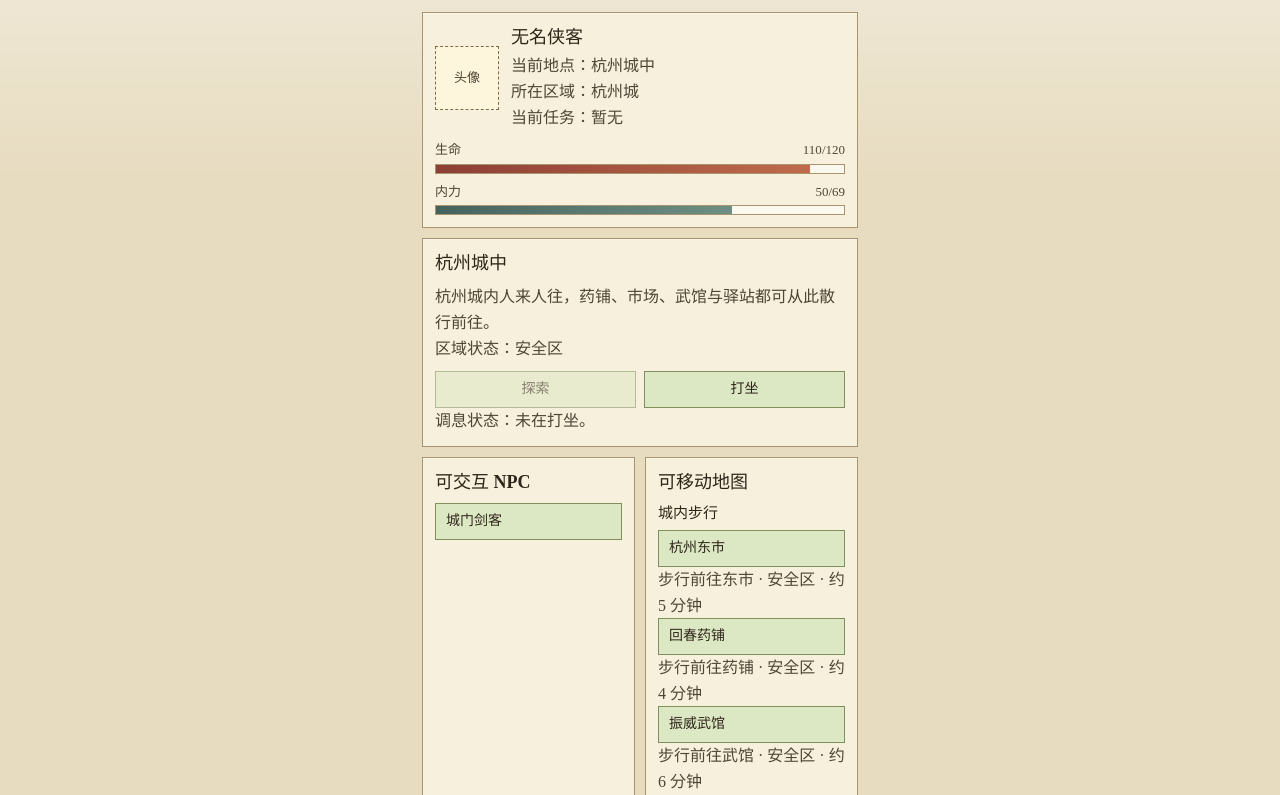
ScenePage › settles meditation recovery on the scene page timer
Click the button "打坐". click: (744, 390)
box: [644,371,845,408]
Wait 10000 ms
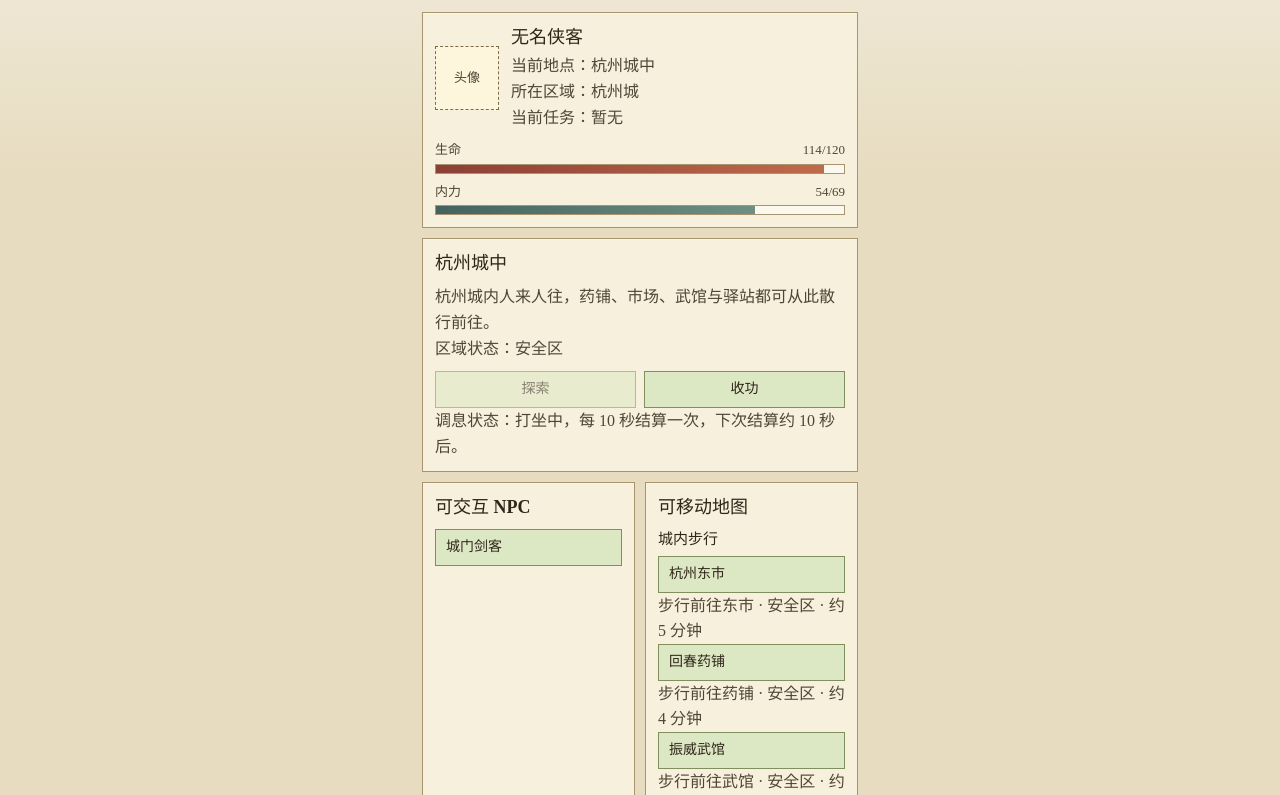
Expected: the button "收功" is shown, [644,371,845,408]
